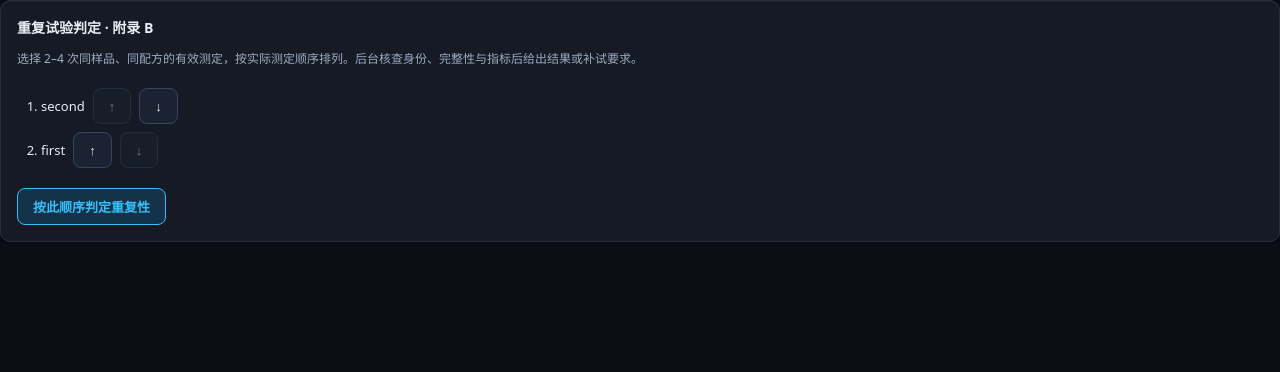
Scenario: retains measurement order, requests additional runs and clears stale results after selection changes
Click the button "按此顺序判定重复性". click: (92, 207)
box: [17, 188, 166, 225]
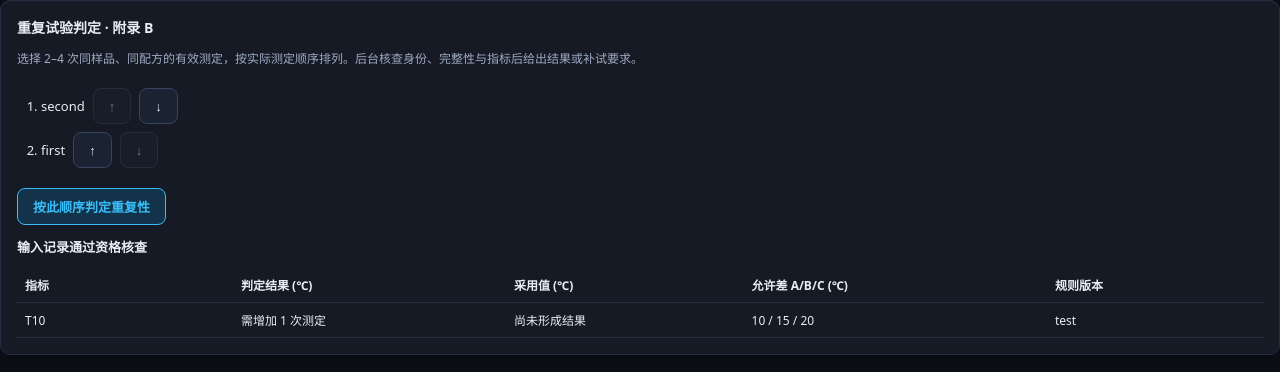
Expected: the text "需增加 1 次测定" is shown, [233, 303, 506, 338]
